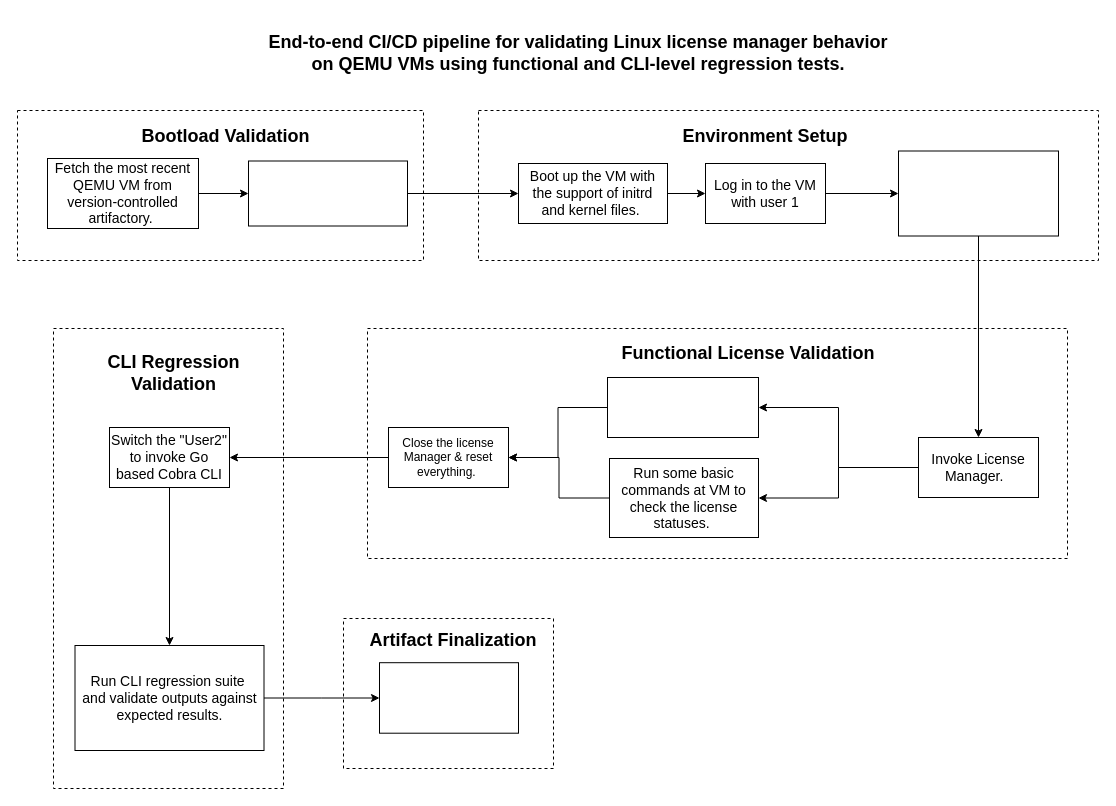
The diagram is 1116 pixels wide and 806 high, and some of its shapes have lost their labels. The centre of each missing label's shape, as x and y in pixels:
Copy Kernel and initrld files from artifactory to repository of CI/CD pipeline.: point 328,193
Save the new updated VM to the artifactory: point 448,697
Set up the VM instance and test some basic commands to setup the system: point 978,193
Test licenses Checkin and Checkout.: point 682,407
